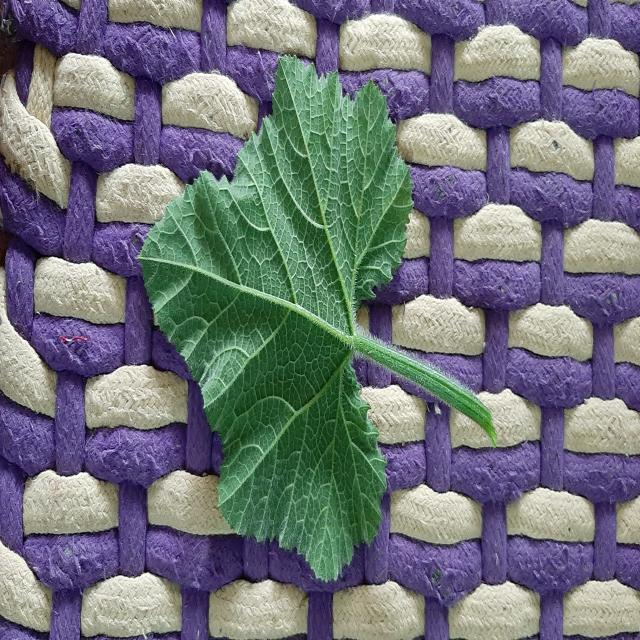pumpkin: (141, 57, 411, 580)
